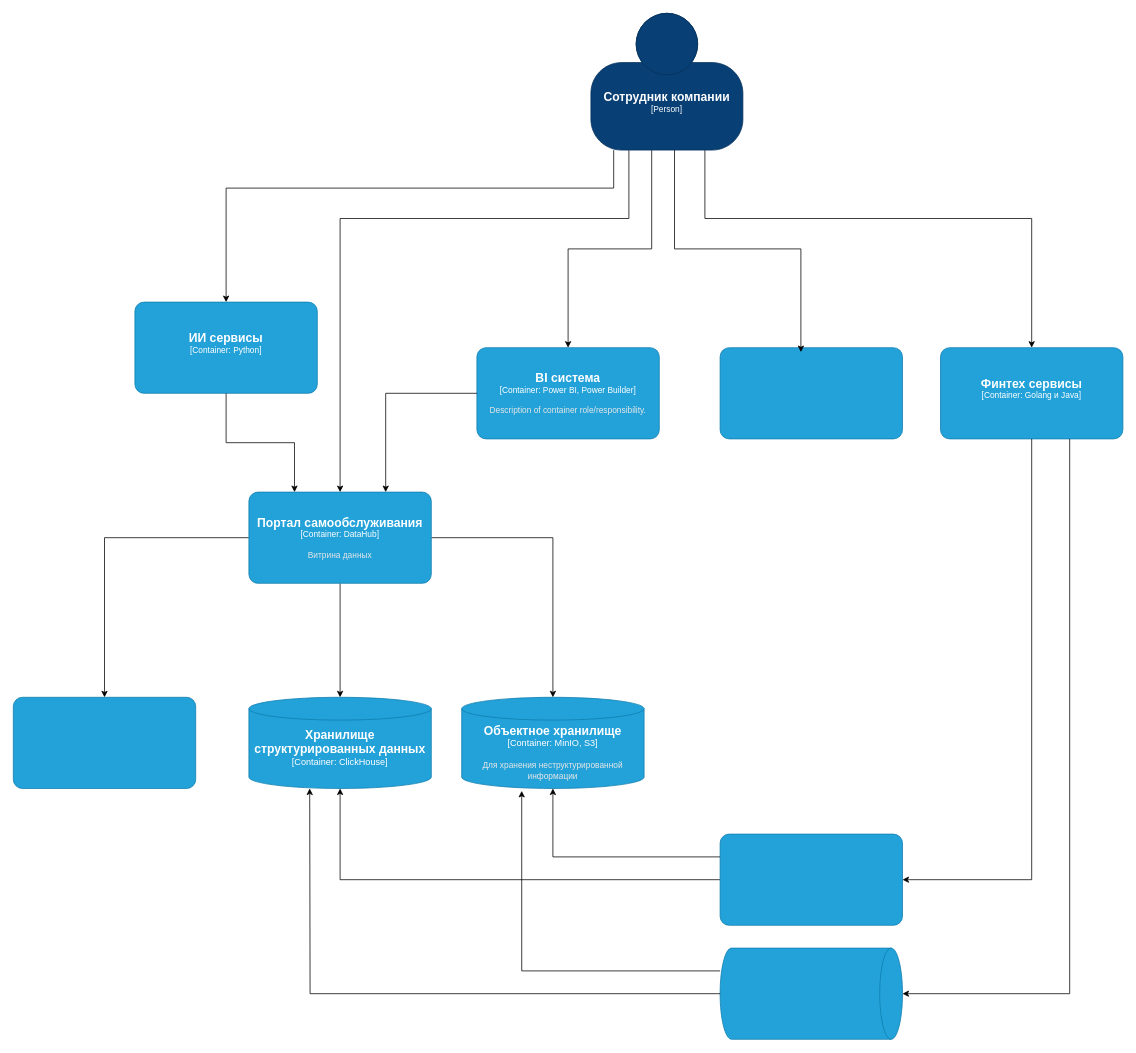
This 1136x1053 diagram has some shape labels left out. The shapes that lost their labels are listed below. From the top down, each one's box as (x1, y1, x2, y2) in pixels, then its label:
(719, 347, 902, 439): Медицинские сервисы [Container: ]
(13, 697, 196, 788): DWH [Container: Microsoft SQL]
(719, 833, 902, 925): ETL [Container: Airflow, Apache Spark] Преобразование и загрузка данных
(719, 947, 902, 1039): Брокер сообщений [Container: Apache Kafka]
